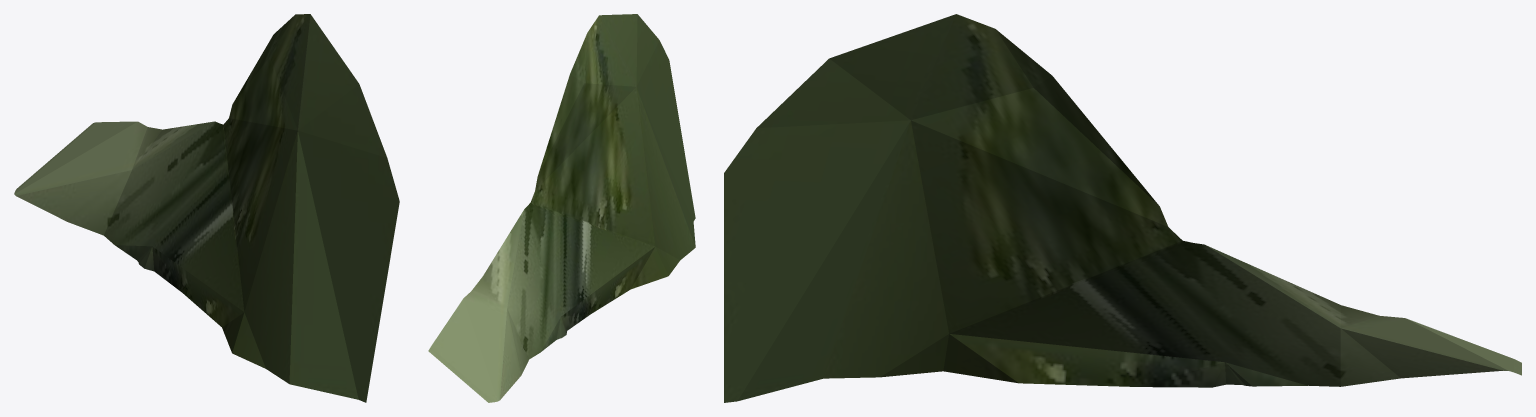
3 renders of one model, left to right at view 1: azimuth 30°, elevation 25°; view 2: azimuth 150°, elevation 25°; view 3: azimuth 270°, elevation 25°, orthographic. The views are drawn at different scales.
Bounding box in the file's own units: 0.4678 × 1.67 × 2.95.
1 material, 1 textured.
